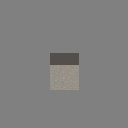supply_truck: (50, 53, 79, 90)
